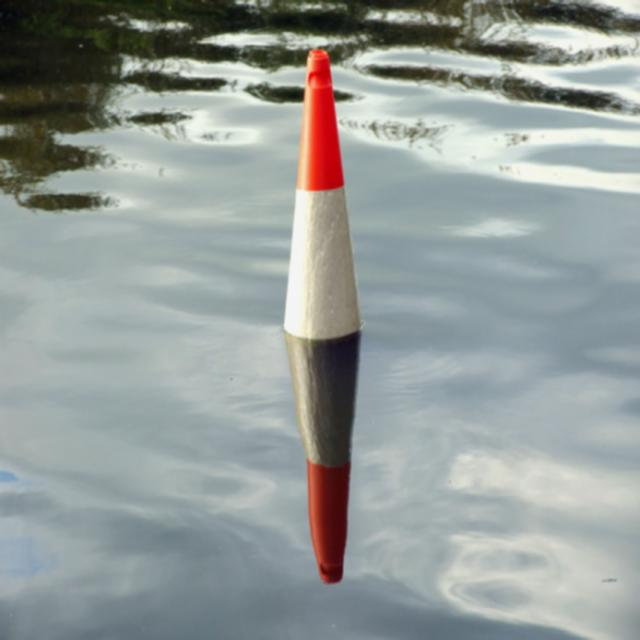reflective_cone: (278, 47, 362, 336), (282, 339, 367, 582)
